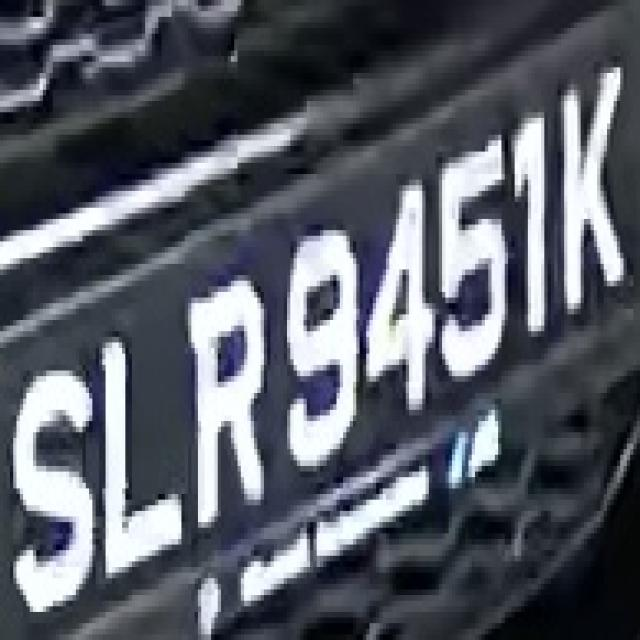1: (502, 107, 568, 365)
4: (356, 174, 449, 438)
5: (429, 124, 505, 376)
9: (267, 241, 373, 483)
K: (554, 62, 634, 314)
L: (92, 314, 182, 584)
R: (175, 269, 280, 539)
S: (3, 337, 92, 617)
